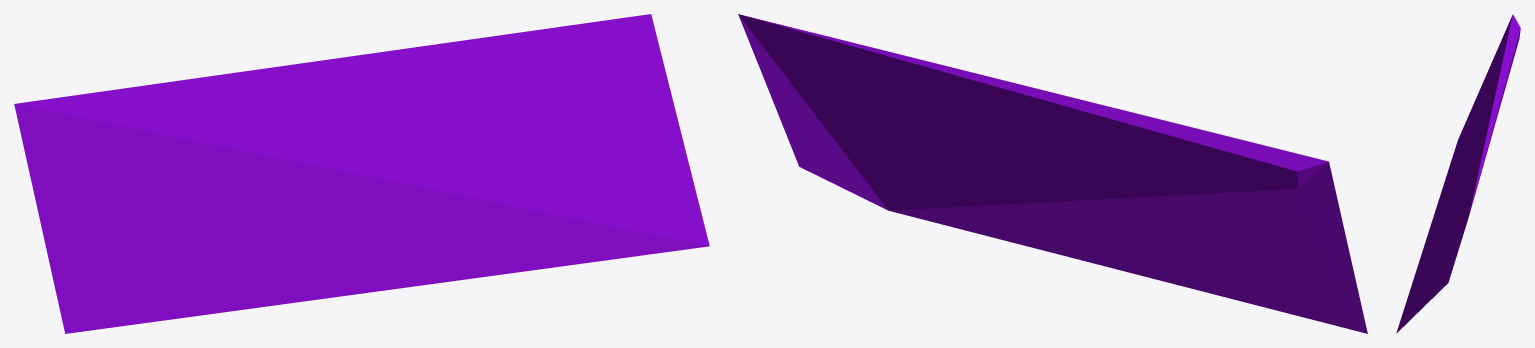
File: arm-L1_convex_piece_016.obj
3 renders of one model, left to right at view 1: azimuth 30°, elevation 25°; view 2: azimuth 150°, elevation 25°; view 3: azimuth 270°, elevation 25°, orthographic. The views are drawn at different scales.
Bounding box in the file's own units: 0.0242 × 0.00849 × 0.00699.
